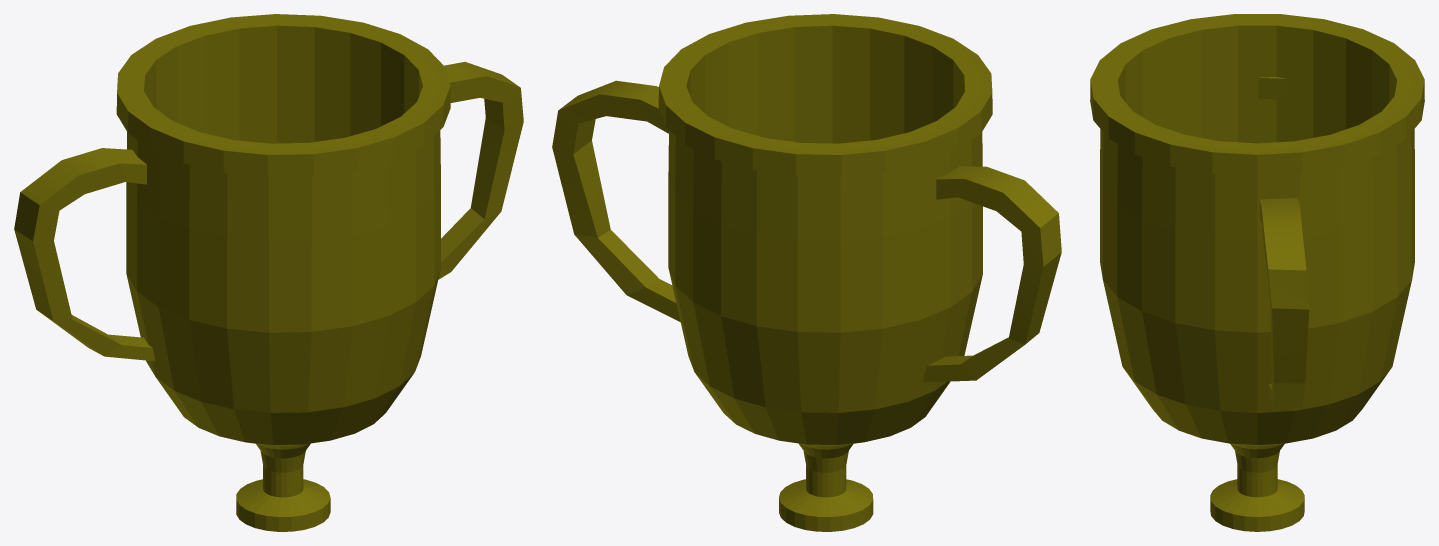
Rendered from Trophy.obj.
3 renders of one model, left to right at view 1: azimuth 30°, elevation 25°; view 2: azimuth 150°, elevation 25°; view 3: azimuth 270°, elevation 25°, orthographic.
Visible parts, largest first — view 1: Cylinder001, Box002, Box001; view 2: Cylinder001, Box001, Box002; view 3: Cylinder001, Box001, Box002.
Boxes of the visible parts, x1,y1,x2,y2 form: Cylinder001: (116, 14, 450, 531); Box002: (14, 148, 155, 361); Box001: (438, 61, 523, 279); Cylinder001: (658, 14, 992, 531); Box001: (552, 80, 680, 321); Box002: (923, 166, 1061, 382); Cylinder001: (1090, 14, 1424, 531); Box001: (1259, 197, 1309, 408); Box002: (1258, 77, 1286, 99).
Size of the model in its own units: 562993 by 467975 by 331775.
